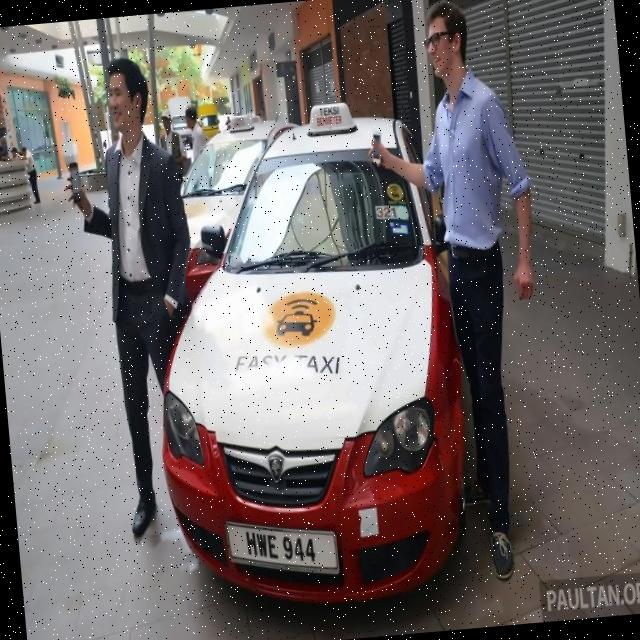License_Plate: (226, 511, 340, 585)
car: (135, 95, 491, 625)
